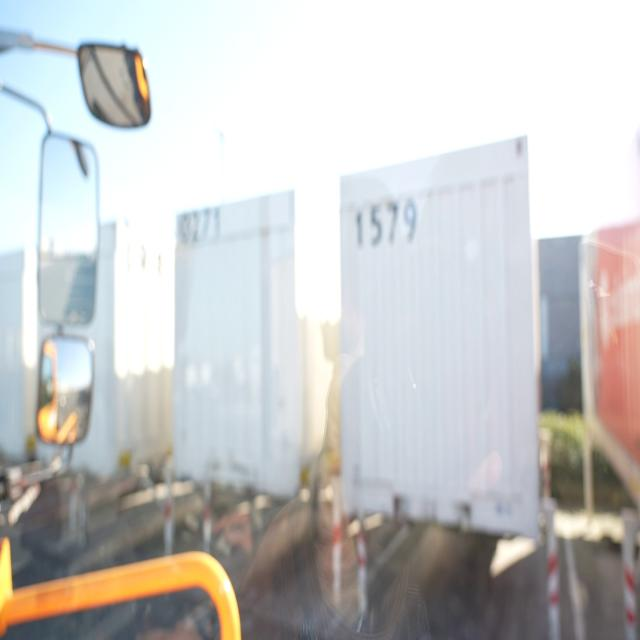Code: (351, 196, 420, 250)
